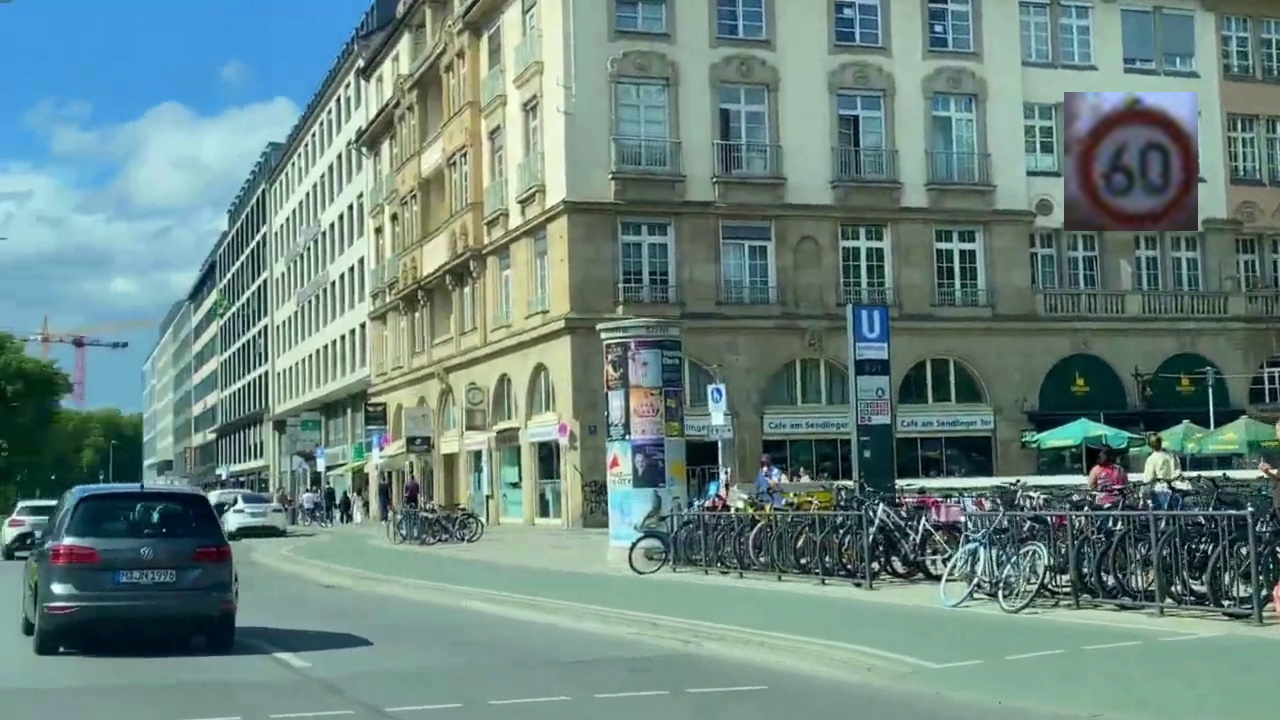Speed 60: (1064, 92, 1198, 231)
